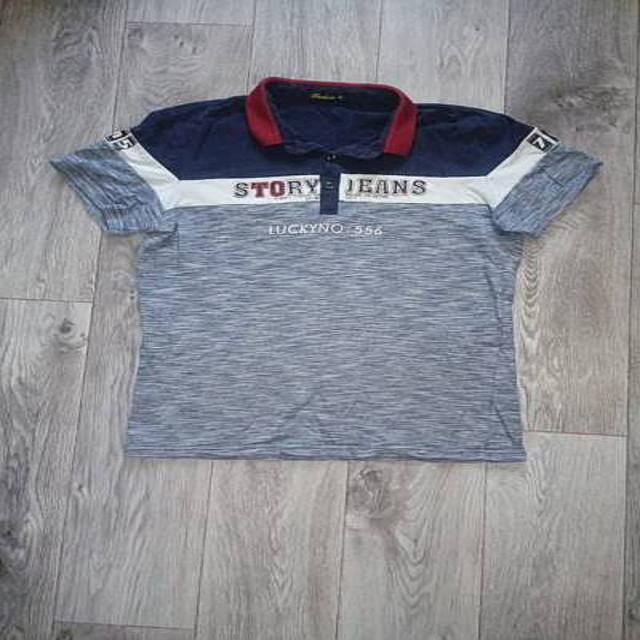T_SHIRT: (50, 70, 610, 487)
